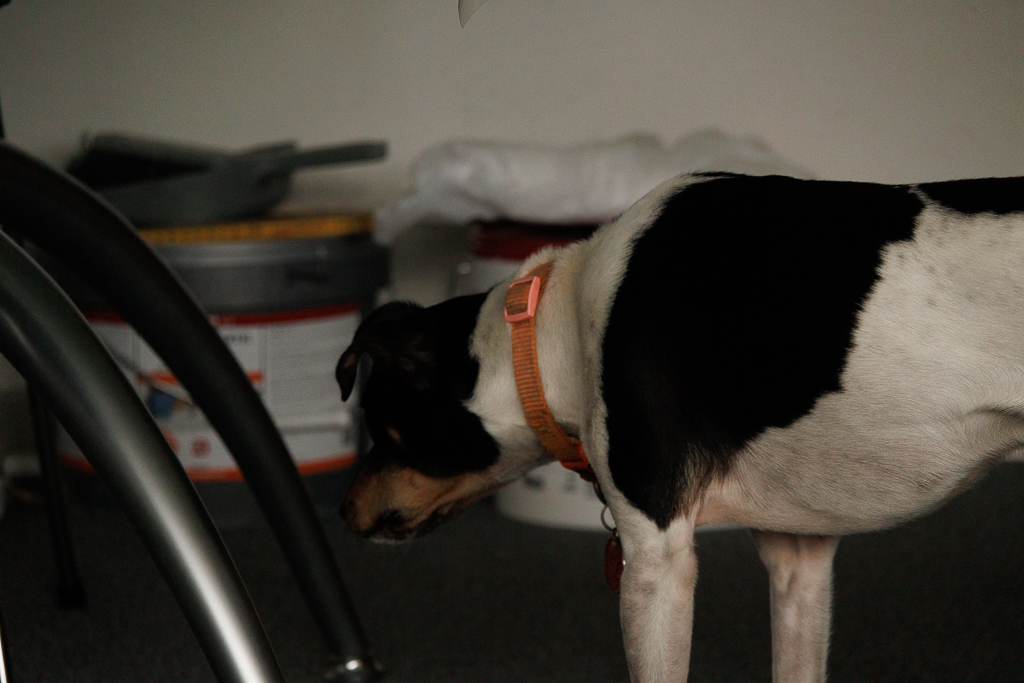Dog: (325, 163, 1024, 683)
